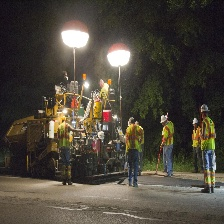helmet: (199, 103, 209, 114), (160, 114, 169, 125), (193, 116, 199, 125)
person: (199, 102, 217, 196), (57, 114, 76, 187), (124, 117, 143, 189), (160, 115, 177, 178), (191, 118, 203, 173), (97, 75, 111, 113)
vest: (200, 119, 217, 153), (125, 125, 143, 155), (56, 122, 73, 153), (161, 125, 176, 148), (192, 127, 201, 152)
